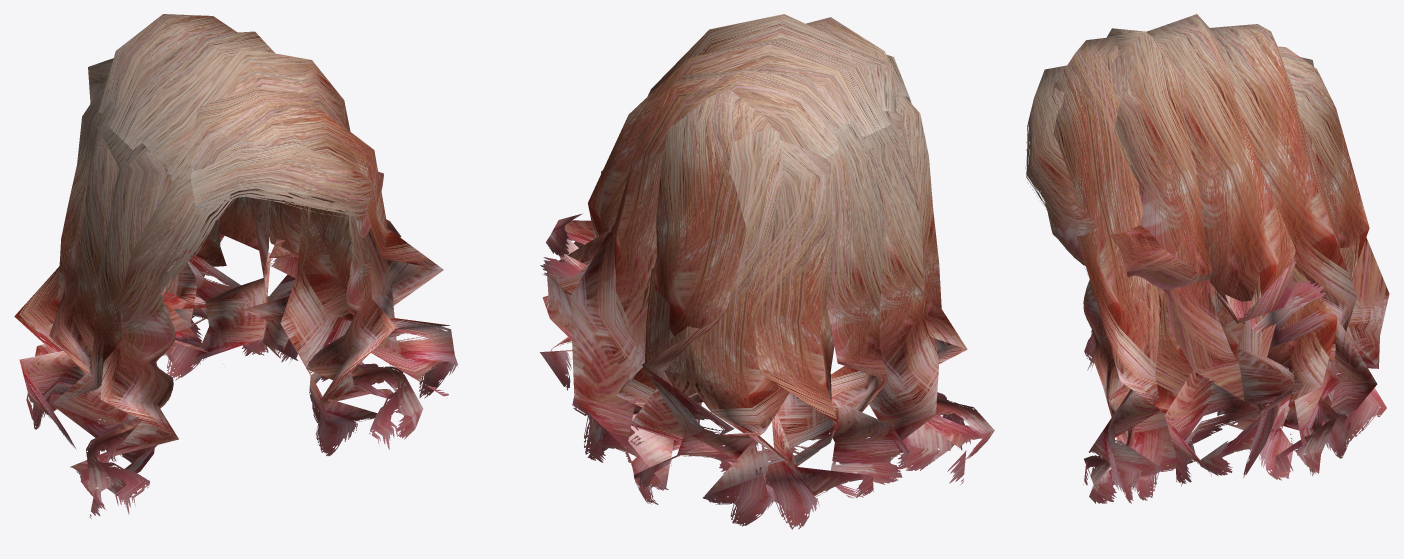
File: mh_cortu_strawberry_cloud_hair.glb
3 views of the same model, side by side, from view 1: azimuth 30°, elevation 25°; view 2: azimuth 150°, elevation 25°; view 3: azimuth 270°, elevation 25° (orthographic). The views are drawn at different scales.
Visible parts, largest first — view 1: mh_cortu_strawberry_cloud_hair; view 2: mh_cortu_strawberry_cloud_hair; view 3: mh_cortu_strawberry_cloud_hair.
Part boxes in pixels (x1=…): mh_cortu_strawberry_cloud_hair: x1=14, y1=14, x2=458, y2=518; mh_cortu_strawberry_cloud_hair: x1=540, y1=14, x2=994, y2=529; mh_cortu_strawberry_cloud_hair: x1=1025, y1=14, x2=1389, y2=503.
Size of the model in its own units: 0.3092 by 0.3455 by 0.2576.
Materials: 1 (1 with a texture image).
